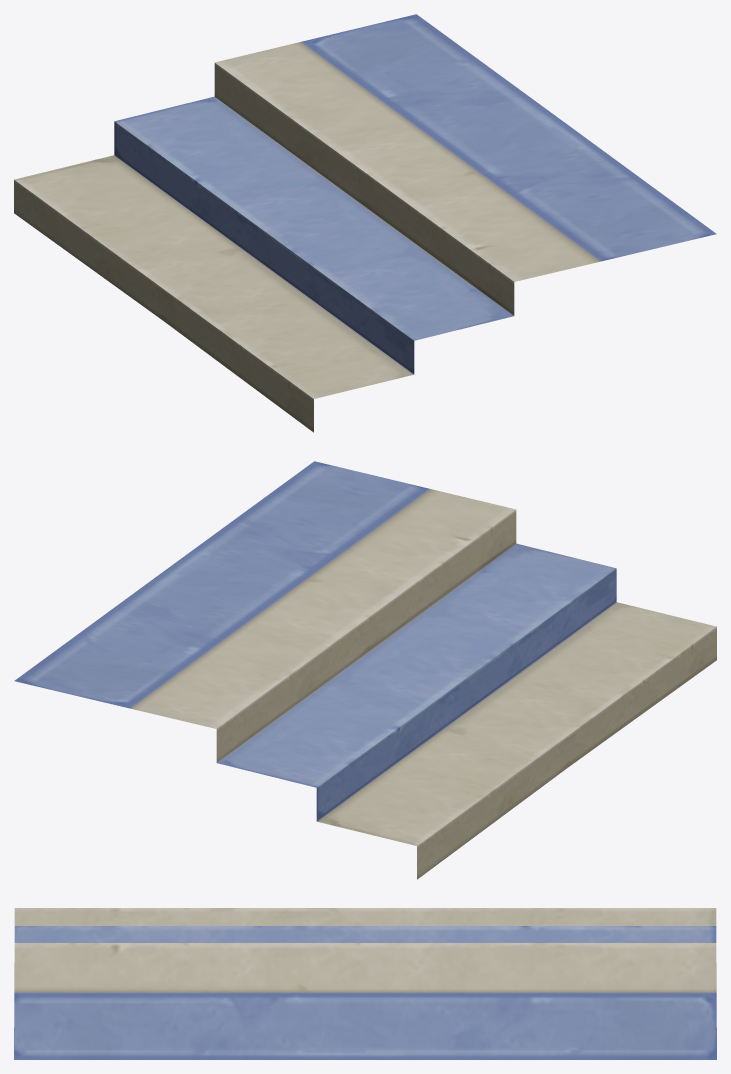
The model's file is sc_liuliuhoulouti_001.FBX.
3 renders of one model, top to bottom at view 1: azimuth 30°, elevation 25°; view 2: azimuth 150°, elevation 25°; view 3: azimuth 270°, elevation 25°, orthographic. The views are drawn at different scales.
Visible parts, largest first — view 1: sc_liuliuhoulouti_001; view 2: sc_liuliuhoulouti_001; view 3: sc_liuliuhoulouti_001.
Part boxes in pixels (<box>): sc_liuliuhoulouti_001: <box>14,14,716,432</box>; sc_liuliuhoulouti_001: <box>14,461,716,879</box>; sc_liuliuhoulouti_001: <box>14,908,716,1059</box>.
Size of the model in its own units: 2.73 by 0.6599 by 3.53.
